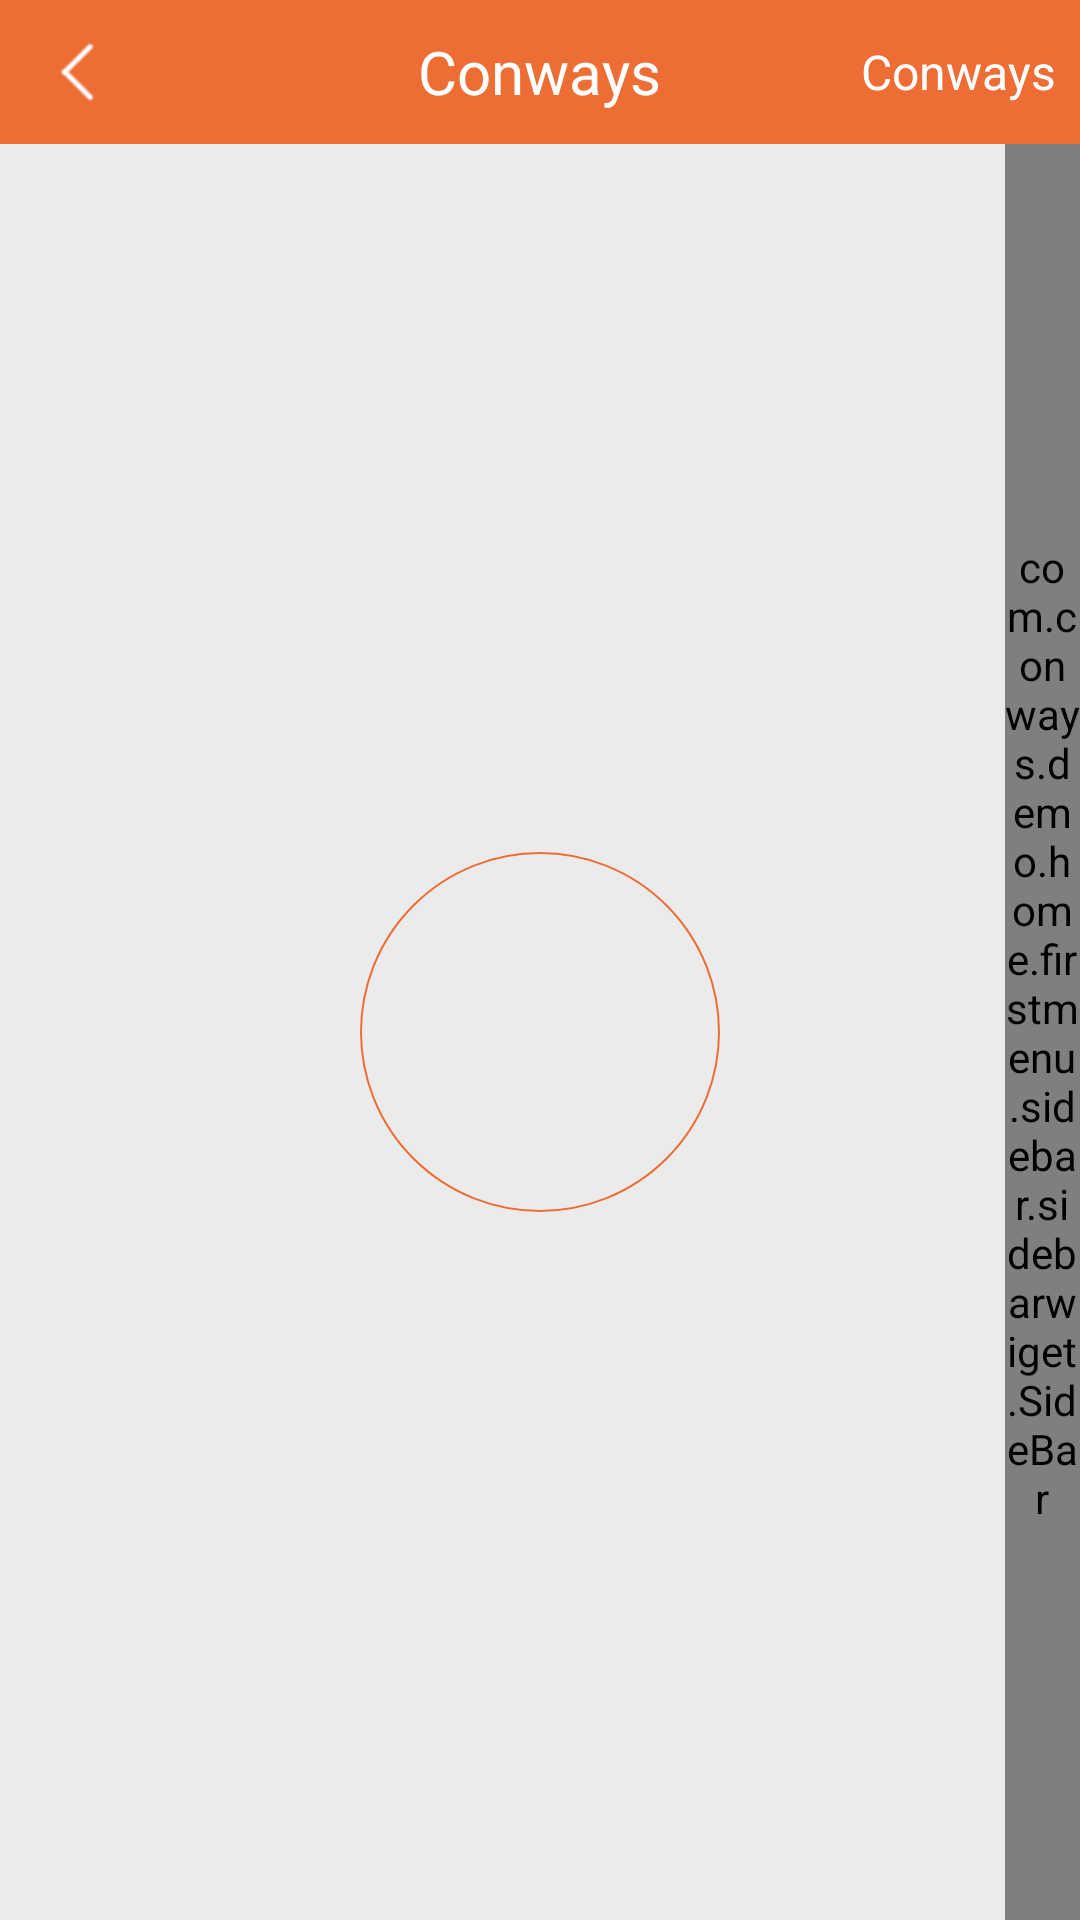

Named icons in this screenshot (1080x1920) and their bounding boxes, (x1=x1, y1=y1, x2=x2, y2=y2):
arrow back: (x1=61, y1=43, x2=94, y2=101)
